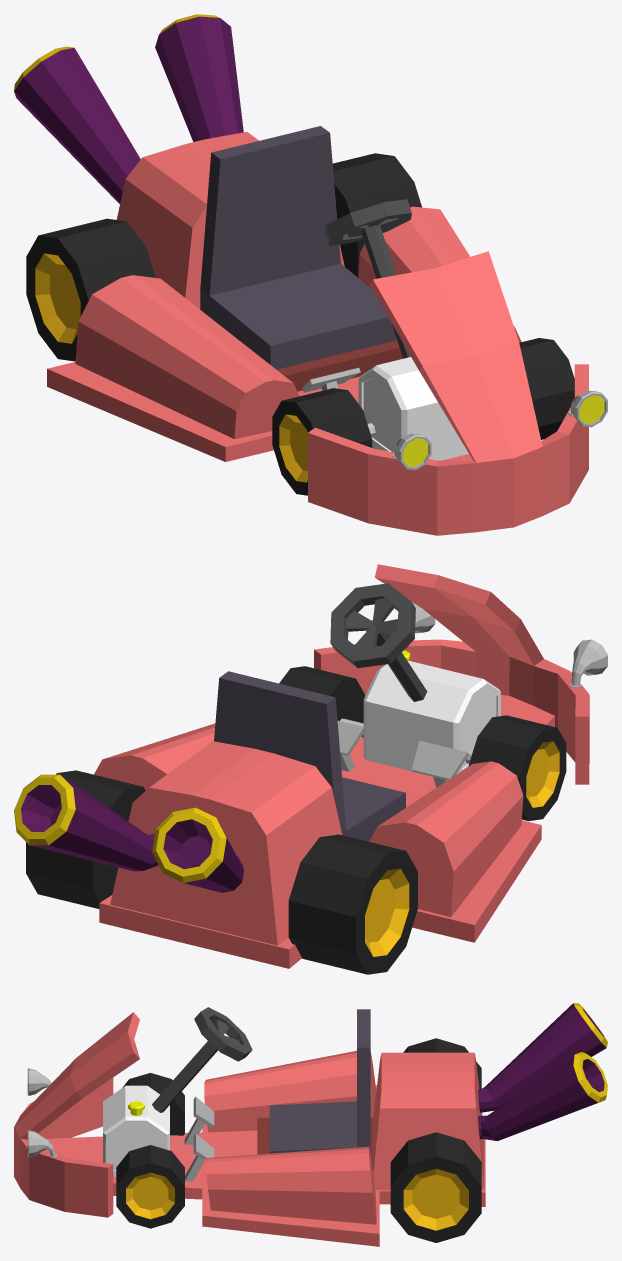
The model's file is GeorgiaPeachKart.glb.
3 views of the same model, one above another, from view 1: azimuth 30°, elevation 25°; view 2: azimuth 150°, elevation 25°; view 3: azimuth 270°, elevation 25° (orthographic). The views are drawn at different scales.
Parts seen in each view (by area): view 1: KartPlataform1, Hood1, Chair1, Catalysts1, Wheel_BR, Wheel_FR, Wheel_BL, Wheel_FL, SteeringWheel1, Lights_Kart1, Pedals1; view 2: KartPlataform1, Hood1, Wheel_BR, Catalysts1, Chair1, SteeringWheel1, Wheel_FR, Wheel_BL, Pedals1, Wheel_FL, Lights_Kart1; view 3: KartPlataform1, Hood1, Catalysts1, Wheel_BL, Chair1, Wheel_FL, SteeringWheel1, Pedals1, Wheel_FR, Lights_Kart1, Wheel_BR.
Part boxes in pixels (x1,y1,x2,y2): KartPlataform1: [47, 132, 521, 461]; Hood1: [308, 251, 588, 535]; Chair1: [200, 126, 403, 391]; Catalysts1: [14, 14, 243, 203]; Wheel_BR: [26, 218, 155, 361]; Wheel_FR: [272, 388, 372, 495]; Wheel_BL: [332, 153, 421, 277]; Wheel_FL: [519, 338, 574, 439]; SteeringWheel1: [324, 199, 411, 358]; Lights_Kart1: [392, 390, 607, 470]; Pedals1: [302, 367, 360, 392]; KartPlataform1: [94, 650, 554, 968]; Hood1: [314, 564, 589, 784]; Wheel_BR: [288, 834, 417, 974]; Catalysts1: [14, 774, 243, 892]; Chair1: [214, 671, 405, 841]; SteeringWheel1: [330, 583, 427, 701]; Wheel_FR: [468, 715, 566, 821]; Wheel_BL: [26, 770, 145, 908]; Pedals1: [337, 720, 468, 787]; Wheel_FL: [279, 666, 364, 723]; Lights_Kart1: [412, 602, 607, 687]; KartPlataform1: [45, 1050, 485, 1246]; Hood1: [14, 1012, 139, 1217]; Catalysts1: [478, 1003, 607, 1140]; Wheel_BL: [390, 1132, 481, 1242]; Chair1: [257, 1009, 373, 1172]; Wheel_FL: [116, 1145, 184, 1228]; SteeringWheel1: [152, 1007, 252, 1112]; Pedals1: [184, 1097, 214, 1181]; Wheel_FR: [122, 1073, 184, 1135]; Lights_Kart1: [27, 1068, 57, 1157]; Wheel_BR: [403, 1038, 481, 1089].
Bounding box in the file's own units: 10.53 × 5.62 × 17.74.
